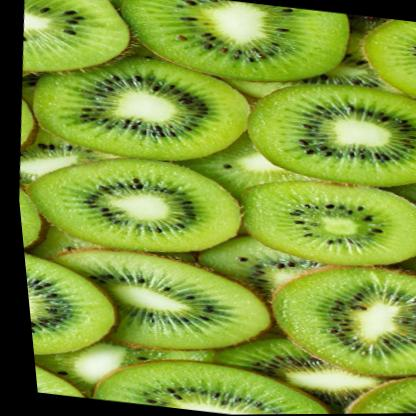kiwi: (18, 34, 287, 180), (18, 231, 282, 370), (11, 140, 254, 268), (105, 0, 363, 100), (228, 69, 416, 195), (250, 250, 416, 386), (223, 165, 416, 278), (68, 340, 345, 416)
